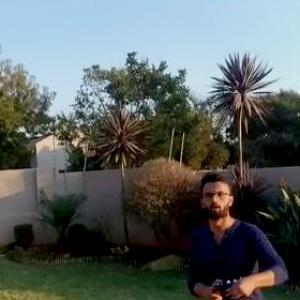follow: (183, 167, 296, 299)
